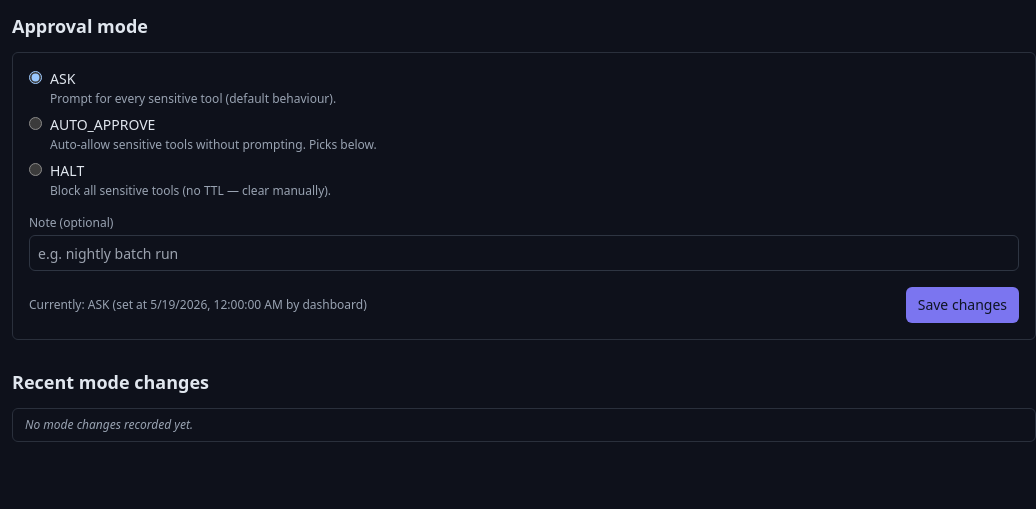
it: ApprovalModeSection › shows error when PUT fails
Click the radio button with test id "mode-radio-HALT" at [36, 170], box top-left (29, 163), bottom-right (42, 176)
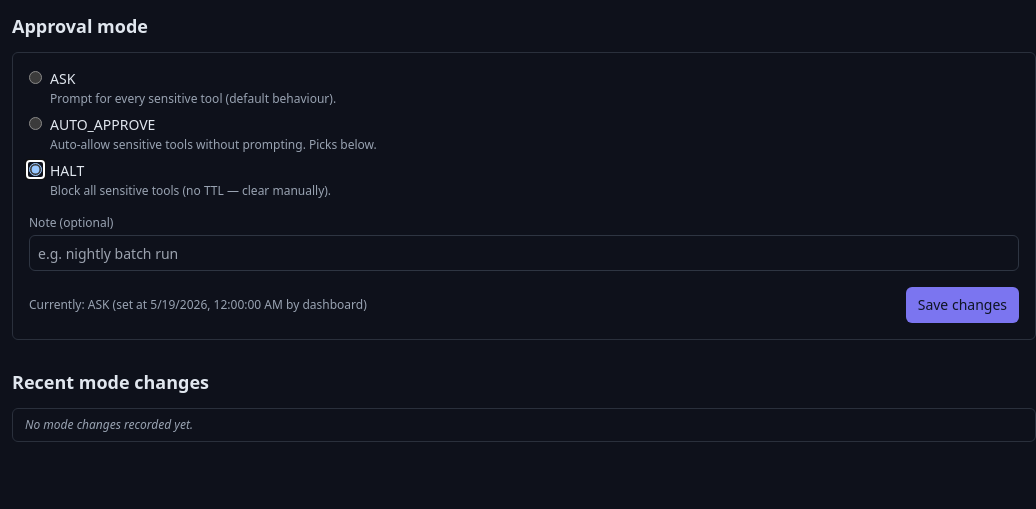
Click the button with test id "mode-save" at [962, 305], box top-left (906, 287), bottom-right (1019, 323)
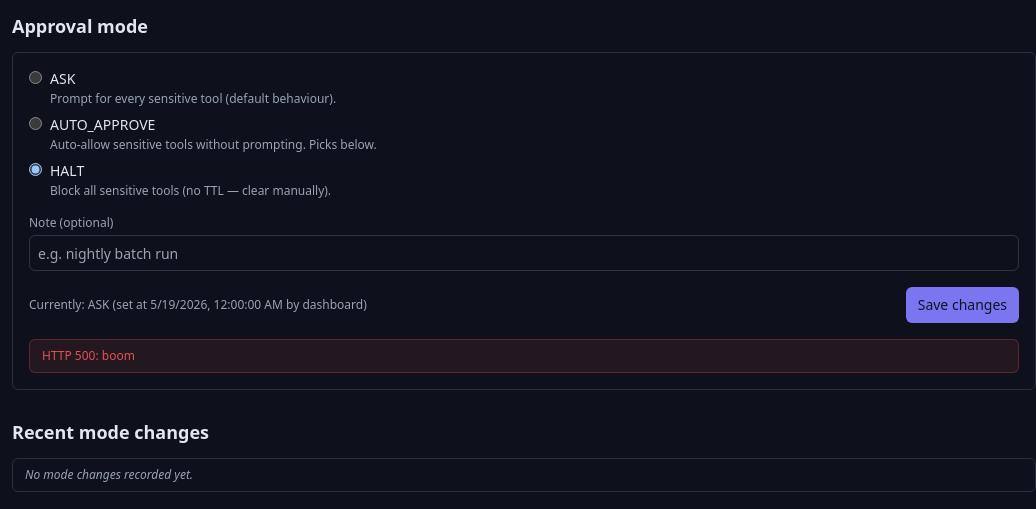
Check: the message "HTTP 500: boom" is shown, box top-left (29, 339), bottom-right (1019, 373)
